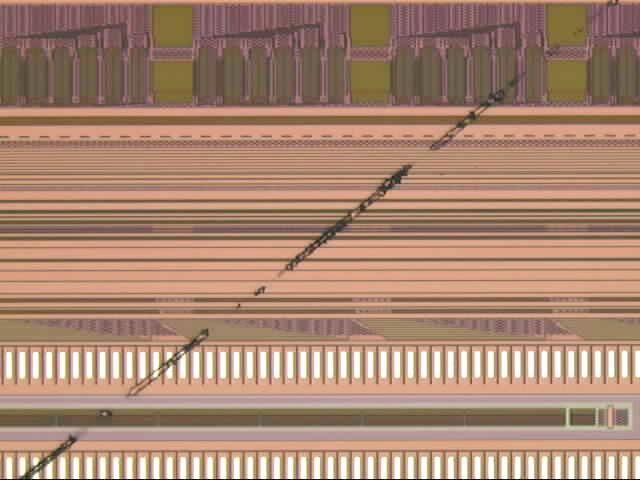SCRATCH: (12, 1, 627, 480)
